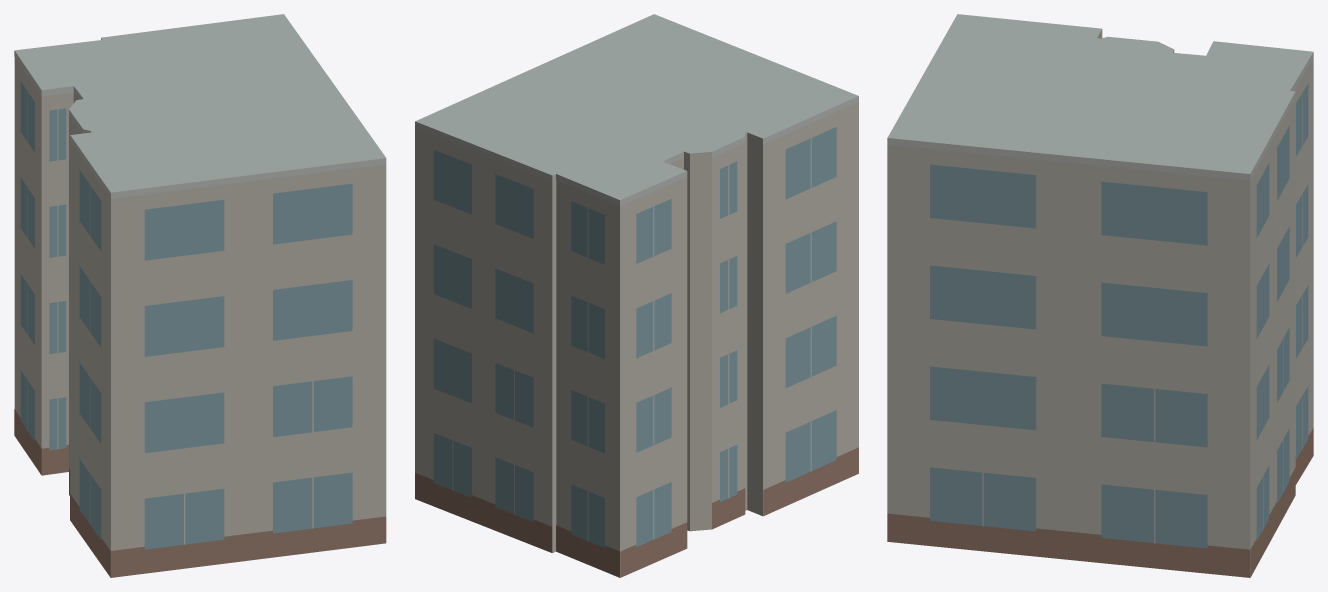
File: survey-upis-32984162.glb
3 views of the same model, side by side, from view 1: azimuth 30°, elevation 25°; view 2: azimuth 150°, elevation 25°; view 3: azimuth 270°, elevation 25° (orthographic). The views are drawn at different scales.
Visible parts, largest first — view 1: survey-upis-32984162.tmp; view 2: survey-upis-32984162.tmp; view 3: survey-upis-32984162.tmp.
Boxes of the visible parts, x1,y1,x2,y2 form: survey-upis-32984162.tmp: (14,14,386,577); survey-upis-32984162.tmp: (415,14,858,577); survey-upis-32984162.tmp: (887,14,1313,577).
Size of the model in its own units: 12.93 by 15.2 by 14.55.
